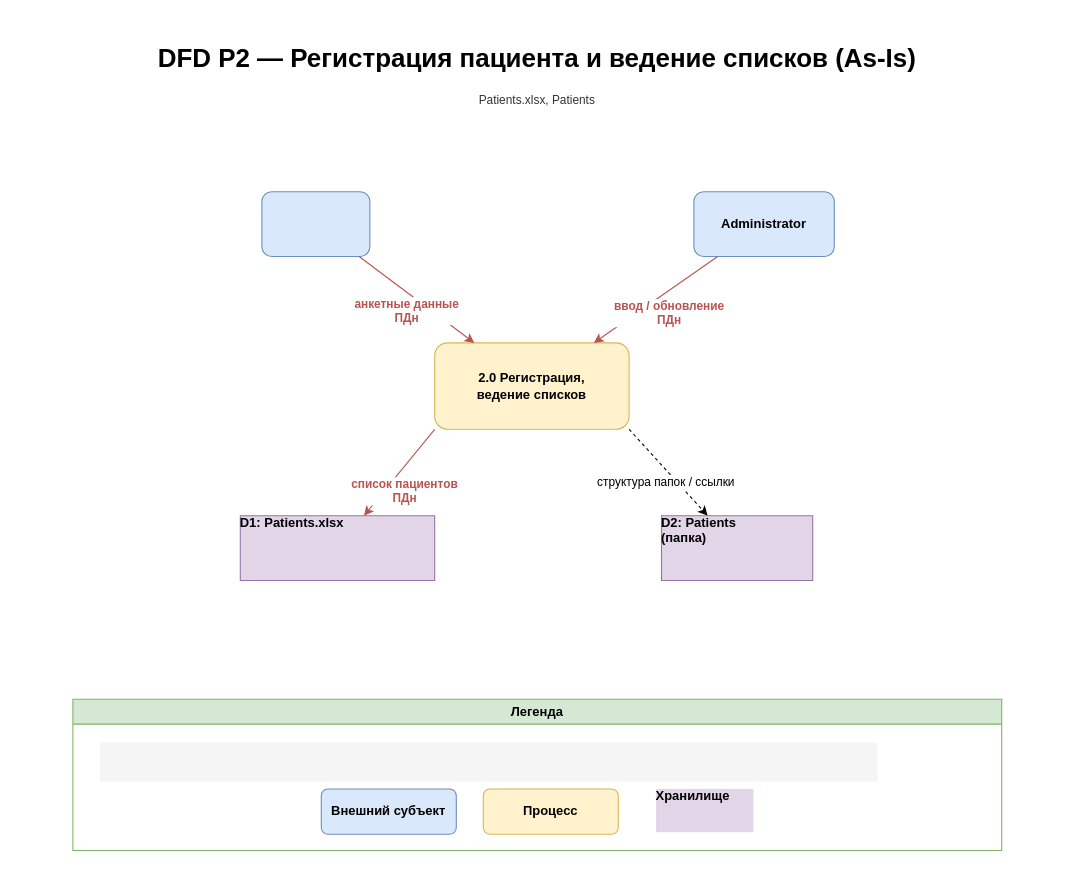
The diagram is 1074 pixels wide and 869 high, and some of its shapes have lost their labels. The shapes that lost their labels are listed below. From the top down, each one's centre as x and y in pixels, then its label:
(315,223): Patient
(488,761): Легенда: Красный — ПДн; пунктир — без маскирования на папке.
